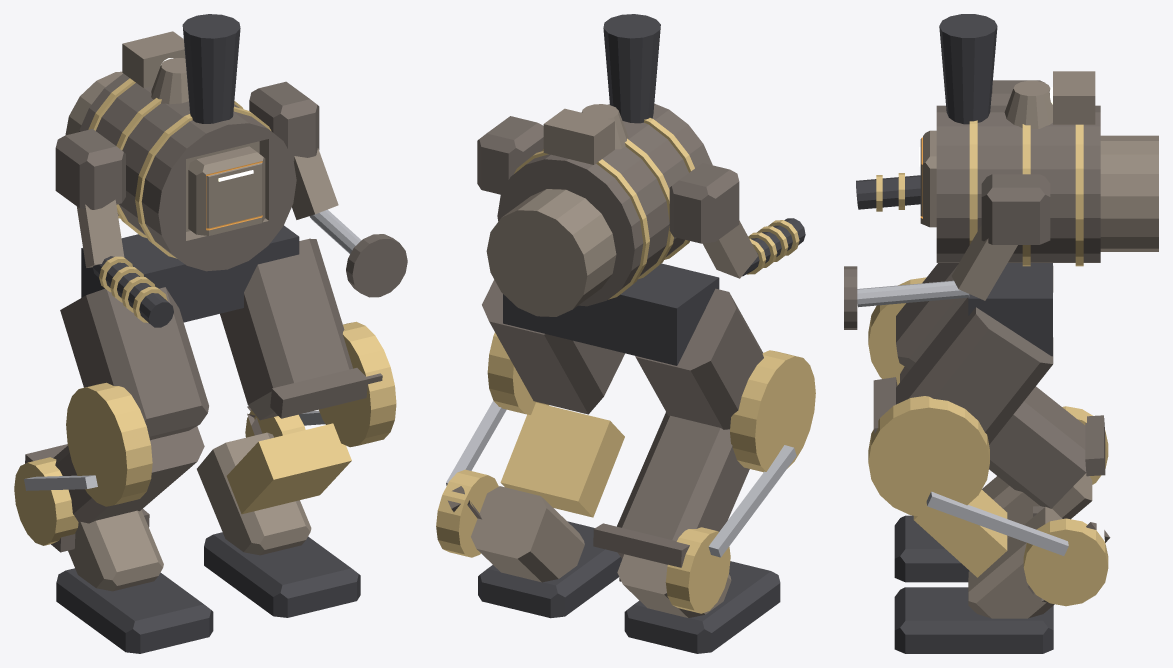
File: ironhorse.glb
3 renders of one model, left to right at view 1: azimuth 30°, elevation 25°; view 2: azimuth 150°, elevation 25°; view 3: azimuth 270°, elevation 25°, orthographic.
Parts seen in each view (by area): view 1: boiler, thigh1, thigh-1, foot-1, foot1, drive-1, shin1, hips, meta1, prow, meta-1, stack (+17 smaller); view 2: boiler, shin-1, firebox, hips, shin1, thigh-1, thigh1, meta1, drive-1, foot-1, foot1, stack (+15 smaller); view 3: boiler, thigh1, drive1, shin-1, foot1, firebox, hockw1, stack, shoulder1, hips, meta1, shin1 (+16 smaller).
Boxes of the visible parts, left/top/right/bottom form: boiler: left=79, top=73, right=296, bottom=271; thigh1: left=220, top=238, right=382, bottom=420; thigh-1: left=60, top=287, right=208, bottom=440; foot-1: left=56, top=568, right=213, bottom=653; foot1: left=204, top=532, right=360, bottom=617; drive-1: left=66, top=382, right=152, bottom=506; shin1: left=226, top=406, right=351, bottom=514; hips: left=81, top=225, right=299, bottom=322; meta1: left=197, top=432, right=311, bottom=555; prow: left=188, top=146, right=265, bottom=235; meta-1: left=68, top=510, right=163, bottom=591; stack: left=182, top=14, right=240, bottom=123; boiler: left=497, top=103, right=712, bottom=306; shin-1: left=593, top=412, right=749, bottom=581; firebox: left=486, top=189, right=616, bottom=316; hips: left=503, top=263, right=719, bottom=365; shin1: left=447, top=402, right=624, bottom=519; thigh-1: left=635, top=288, right=763, bottom=429; thigh1: left=482, top=279, right=624, bottom=414; meta1: left=471, top=486, right=584, bottom=582; drive-1: left=730, top=350, right=815, bottom=472; foot-1: left=624, top=561, right=780, bottom=653; foot1: left=478, top=521, right=622, bottom=618; stack: left=603, top=14, right=660, bottom=123; boiler: left=936, top=105, right=1100, bottom=262; thigh1: left=873, top=297, right=1053, bottom=444; drive1: left=868, top=396, right=989, bottom=517; shin-1: left=900, top=366, right=1105, bottom=516; foot1: left=894, top=587, right=1053, bottom=653; firebox: left=1100, top=135, right=1158, bottom=251; hockw1: left=1023, top=518, right=1108, bottom=606; stack: left=939, top=14, right=997, bottom=124; shoulder1: left=981, top=174, right=1050, bottom=244; hips: left=968, top=263, right=1052, bottom=356; meta1: left=968, top=507, right=1062, bottom=618; shin1: left=913, top=490, right=1110, bottom=602.
Bounding box in the file's own units: 12.58 × 23.8 × 11.9.
